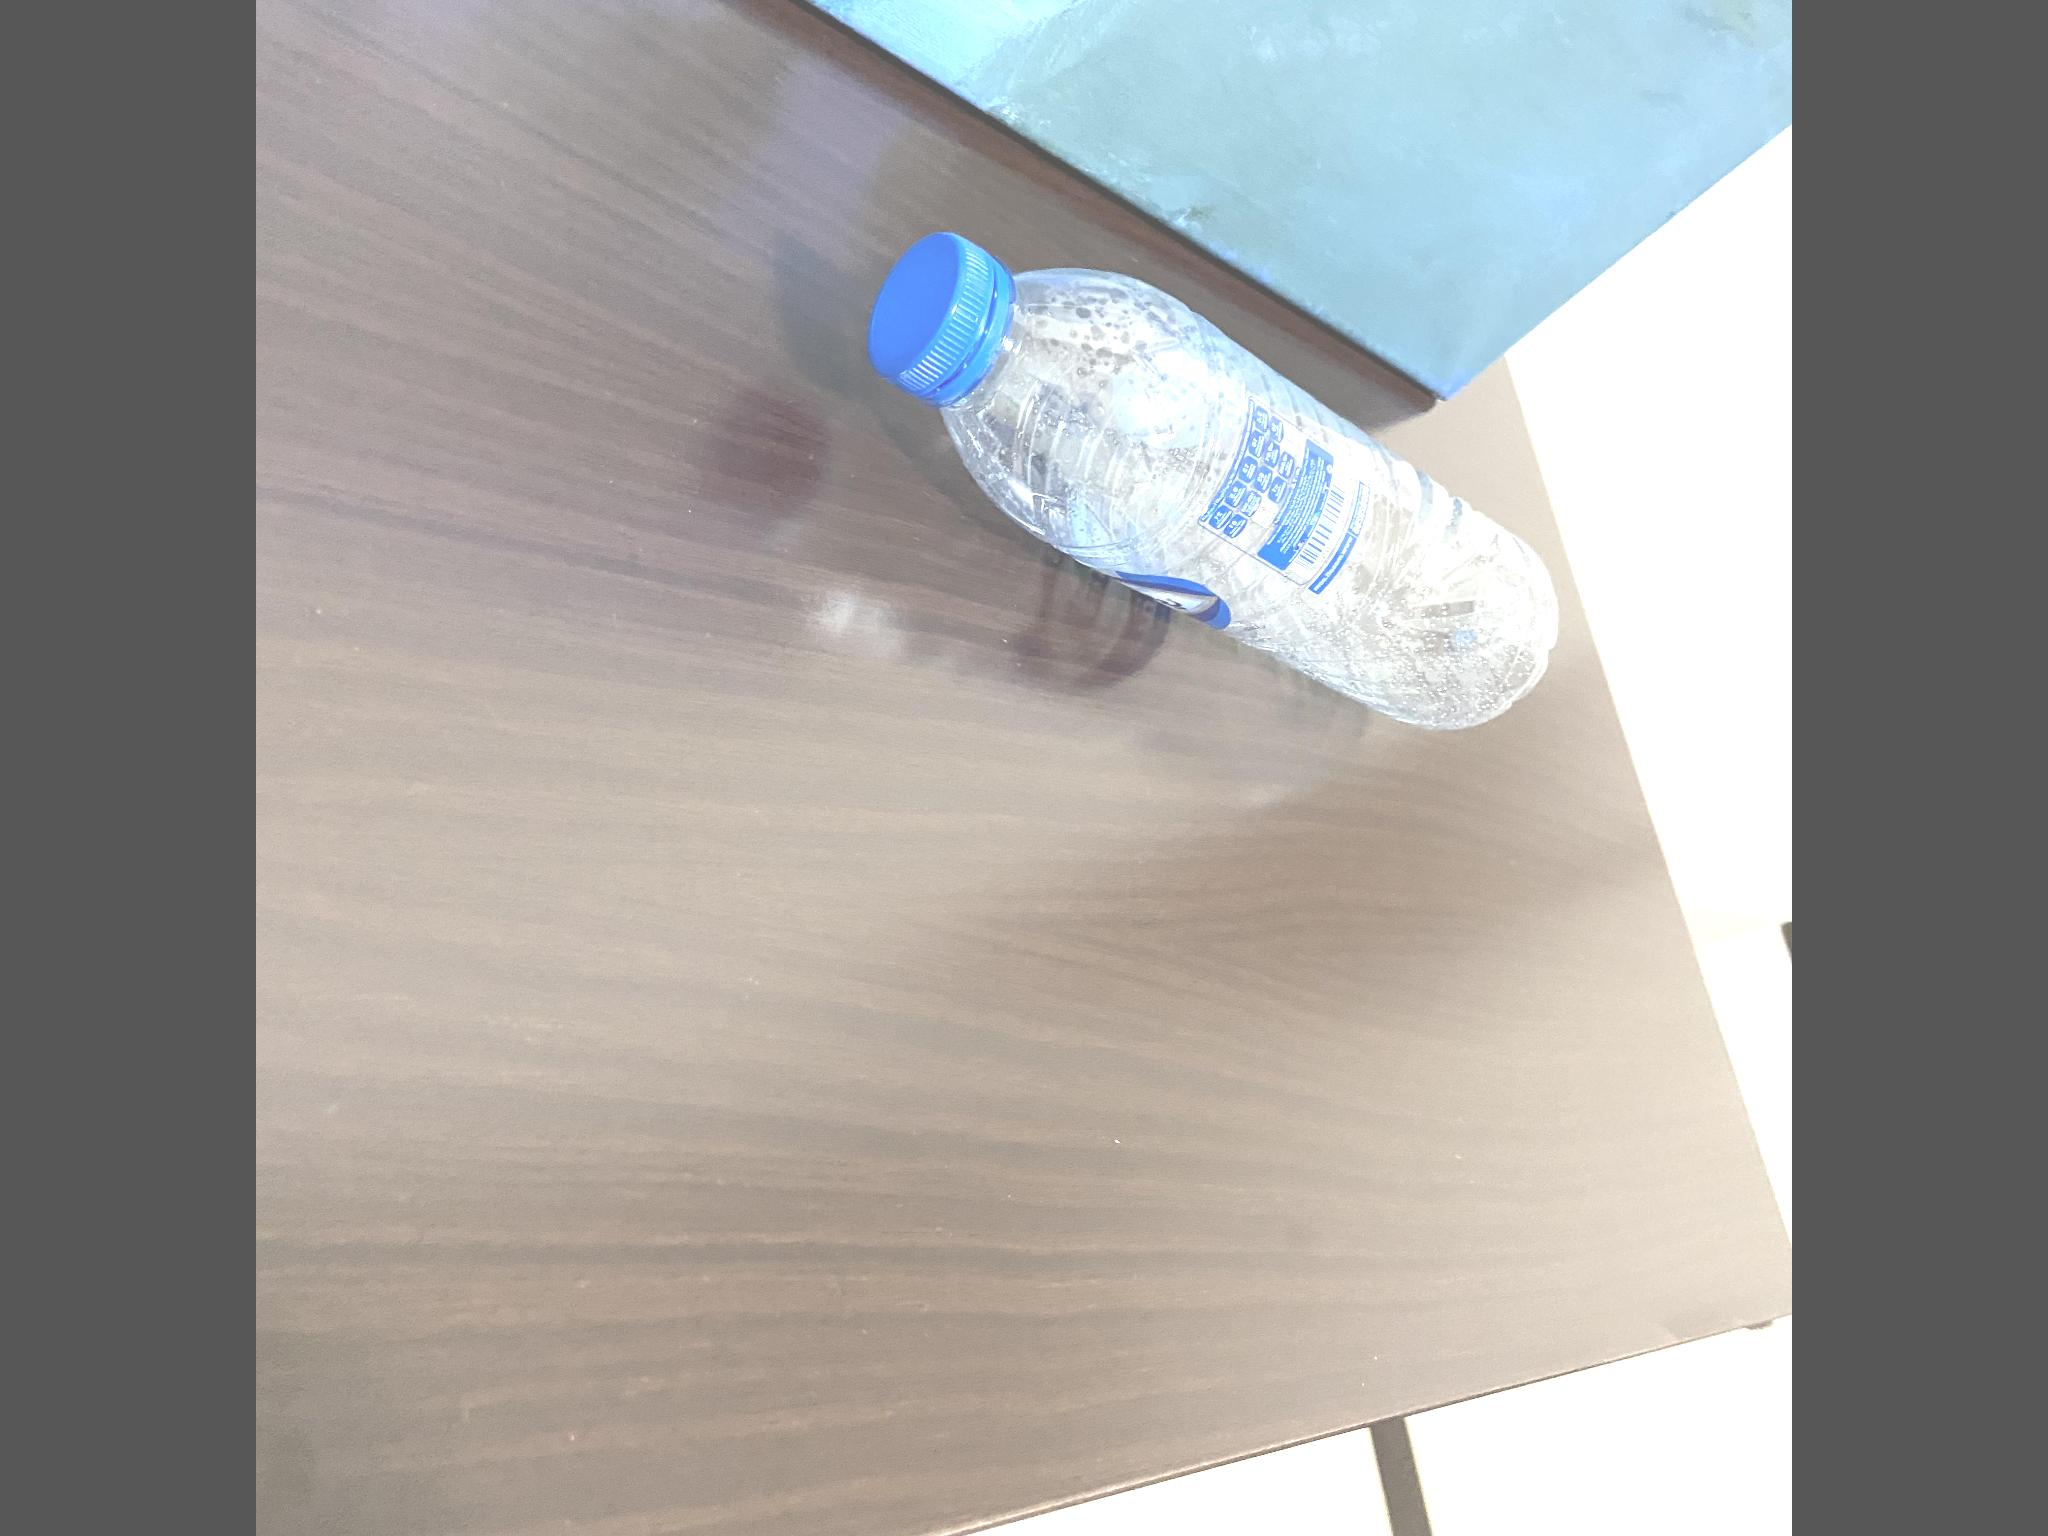bottle: (852, 181, 1566, 743)
